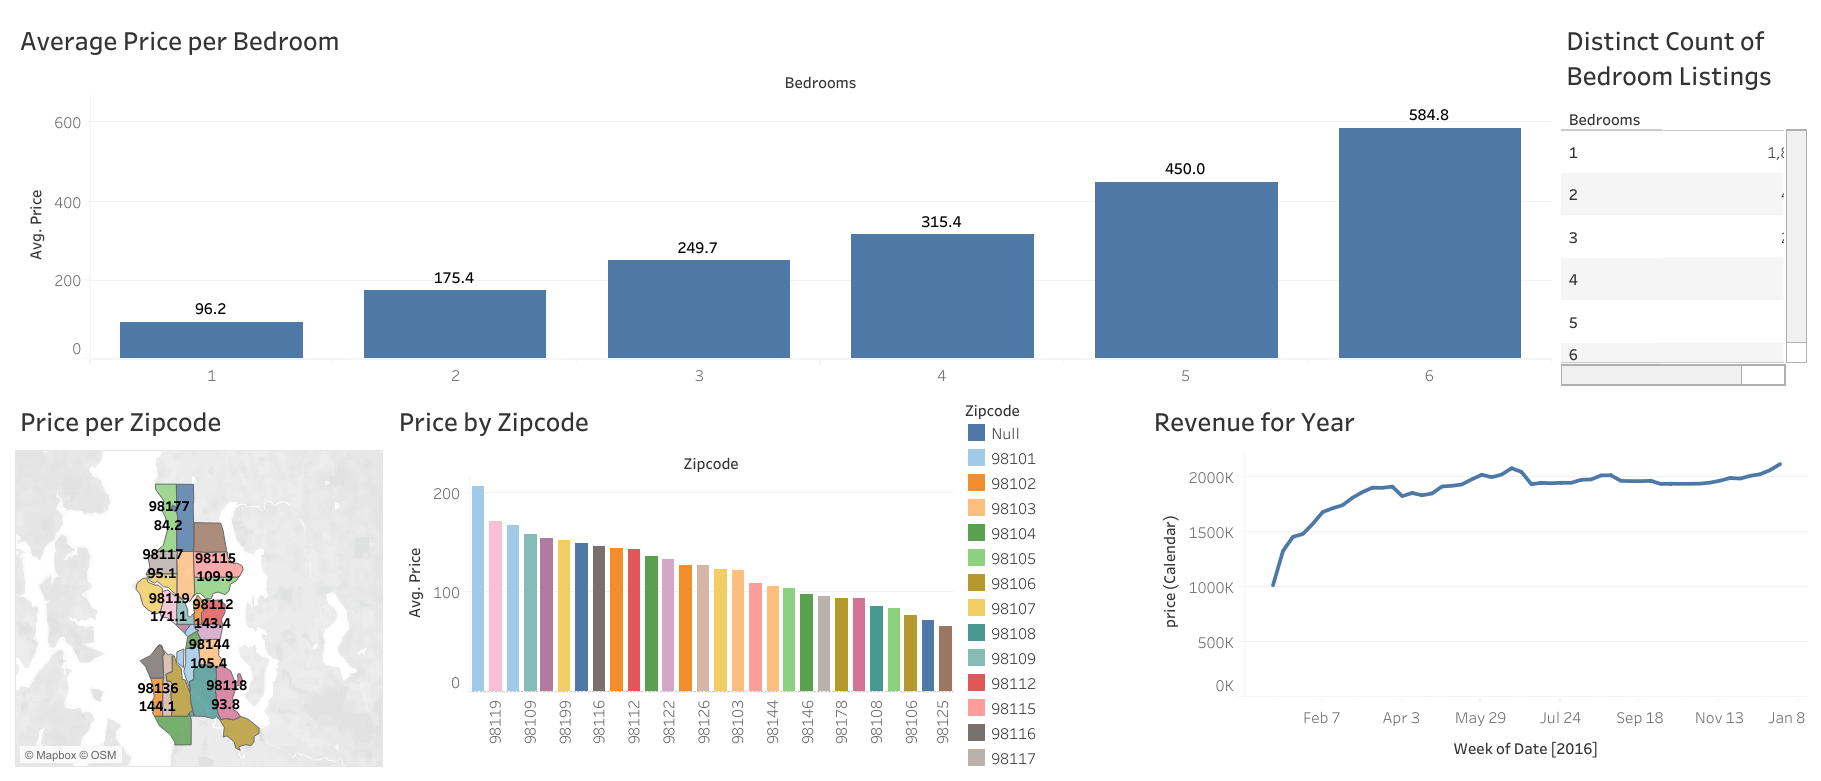

Layout of this report page (visuals, bound fields, positions):
{"tool":"tableau","page":{"name":"Dashboard 1","canvas":[1000,1000],"units":"permille","ordinal":0},"visuals":[{"type":"worksheet","title":"Sheet 6","mark":"Automatic","rows":["price"],"cols":["bedrooms"],"box":[4.7,10,850,489.4]},{"type":"worksheet","title":"Sheet 7","mark":"Automatic","rows":["bedrooms"],"box":[854.7,10,140.6,489.4]},{"type":"worksheet","title":"Sheet 4","mark":"Multipolygon","box":[4.7,499.4,208,490.6]},{"type":"worksheet","title":"Sheet 3","mark":"Automatic","rows":["price"],"cols":["zipcode"],"box":[212.7,499.4,313.3,490.6]},{"type":"legend","title":"Sheet 3","param":"[federated.1skk1lr0foj2ra136ks831lrqhv5].[none:zipcode:ok]","box":[526,499.4,101.8,490.6]},{"type":"worksheet","title":"Sheet 5","mark":"Automatic","rows":["price (Calendar)"],"cols":["date"],"box":[627.8,499.4,367.5,490.6]}]}

Visuals, with their boxes on the dashboard's canvas, which has no fixed pixel size, in thousandths of its width and height (x1, y1, x2, y2). These are canvas units, not pixel positions in the 1821x781 screenshot, which may show the page scaled, cropped or inside an application window:
"Sheet 6" worksheet: bbox(5, 10, 855, 499)
"Sheet 7" worksheet: bbox(855, 10, 995, 499)
"Sheet 4" worksheet (Multipolygon marks): bbox(5, 499, 213, 990)
"Sheet 3" worksheet: bbox(213, 499, 526, 990)
"Sheet 3" legend: bbox(526, 499, 628, 990)
"Sheet 5" worksheet: bbox(628, 499, 995, 990)
